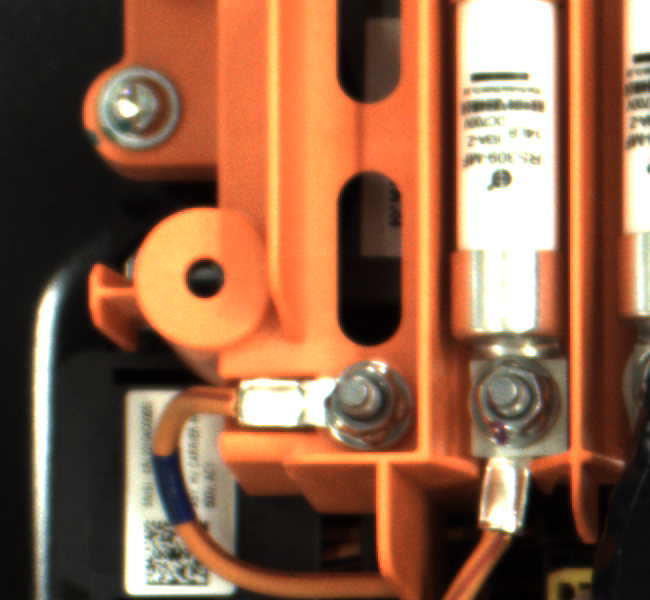screw_m: (91, 59, 195, 159)
screw_s: (470, 349, 565, 450), (326, 352, 415, 451)
